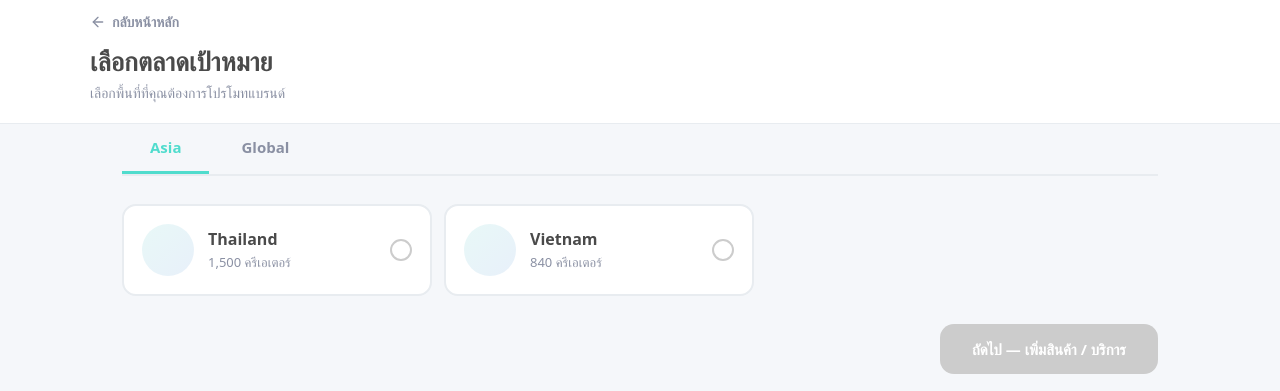
SelectCountryPage › CTA is enabled after selecting a country
Expected: the text "Thailand" is shown, [208, 228, 278, 250]
Click the button "Thailand 1,500 ครีเอเตอร์": click(277, 250) [122, 204, 432, 296]
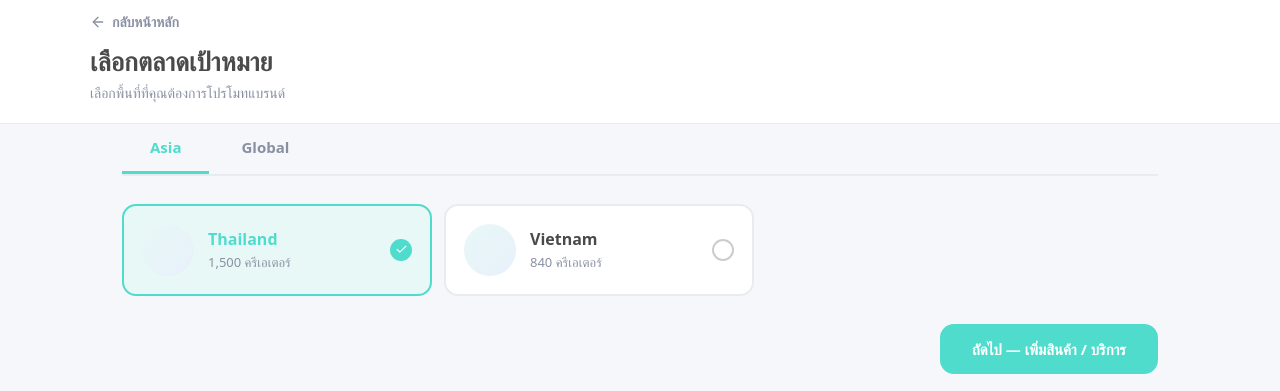
Now the button "ถัดไป — เพิ่มสินค้า / บริการ" is enabled, box [940, 324, 1158, 374]
